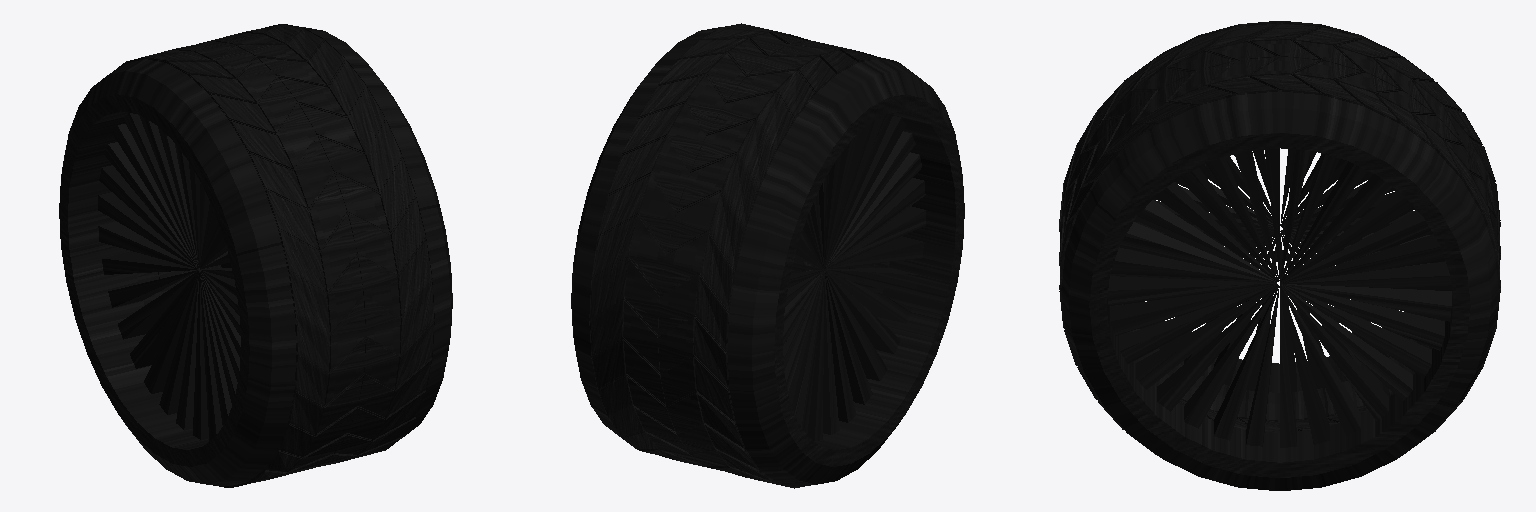
3 views of the same model, side by side, from view 1: azimuth 30°, elevation 25°; view 2: azimuth 150°, elevation 25°; view 3: azimuth 270°, elevation 25° (orthographic).
Visible parts, largest first — view 1: Cilindro; view 2: Cilindro; view 3: Cilindro.
Part boxes in pixels (bbox=[...]): Cilindro: bbox=[59, 24, 452, 487]; Cilindro: bbox=[571, 23, 964, 488]; Cilindro: bbox=[1059, 21, 1500, 490].
Size of the model in its own units: 1 by 1.89 by 1.89.
Materials: 1 (1 with a texture image).